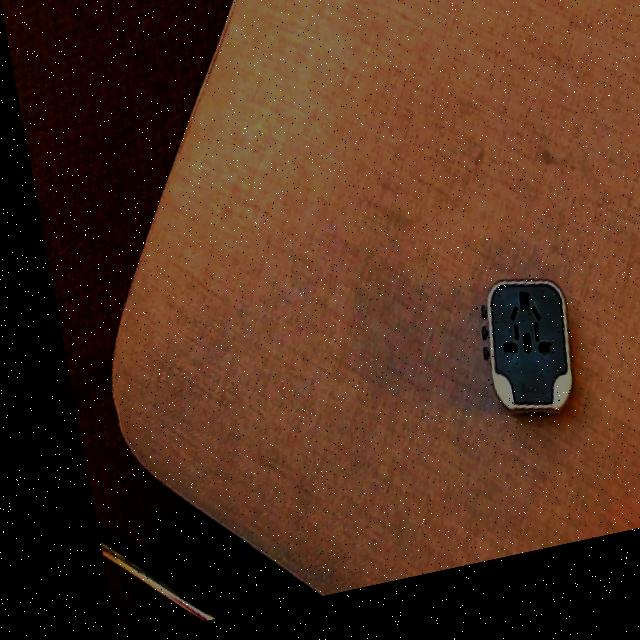adapter: (454, 287, 565, 444)
